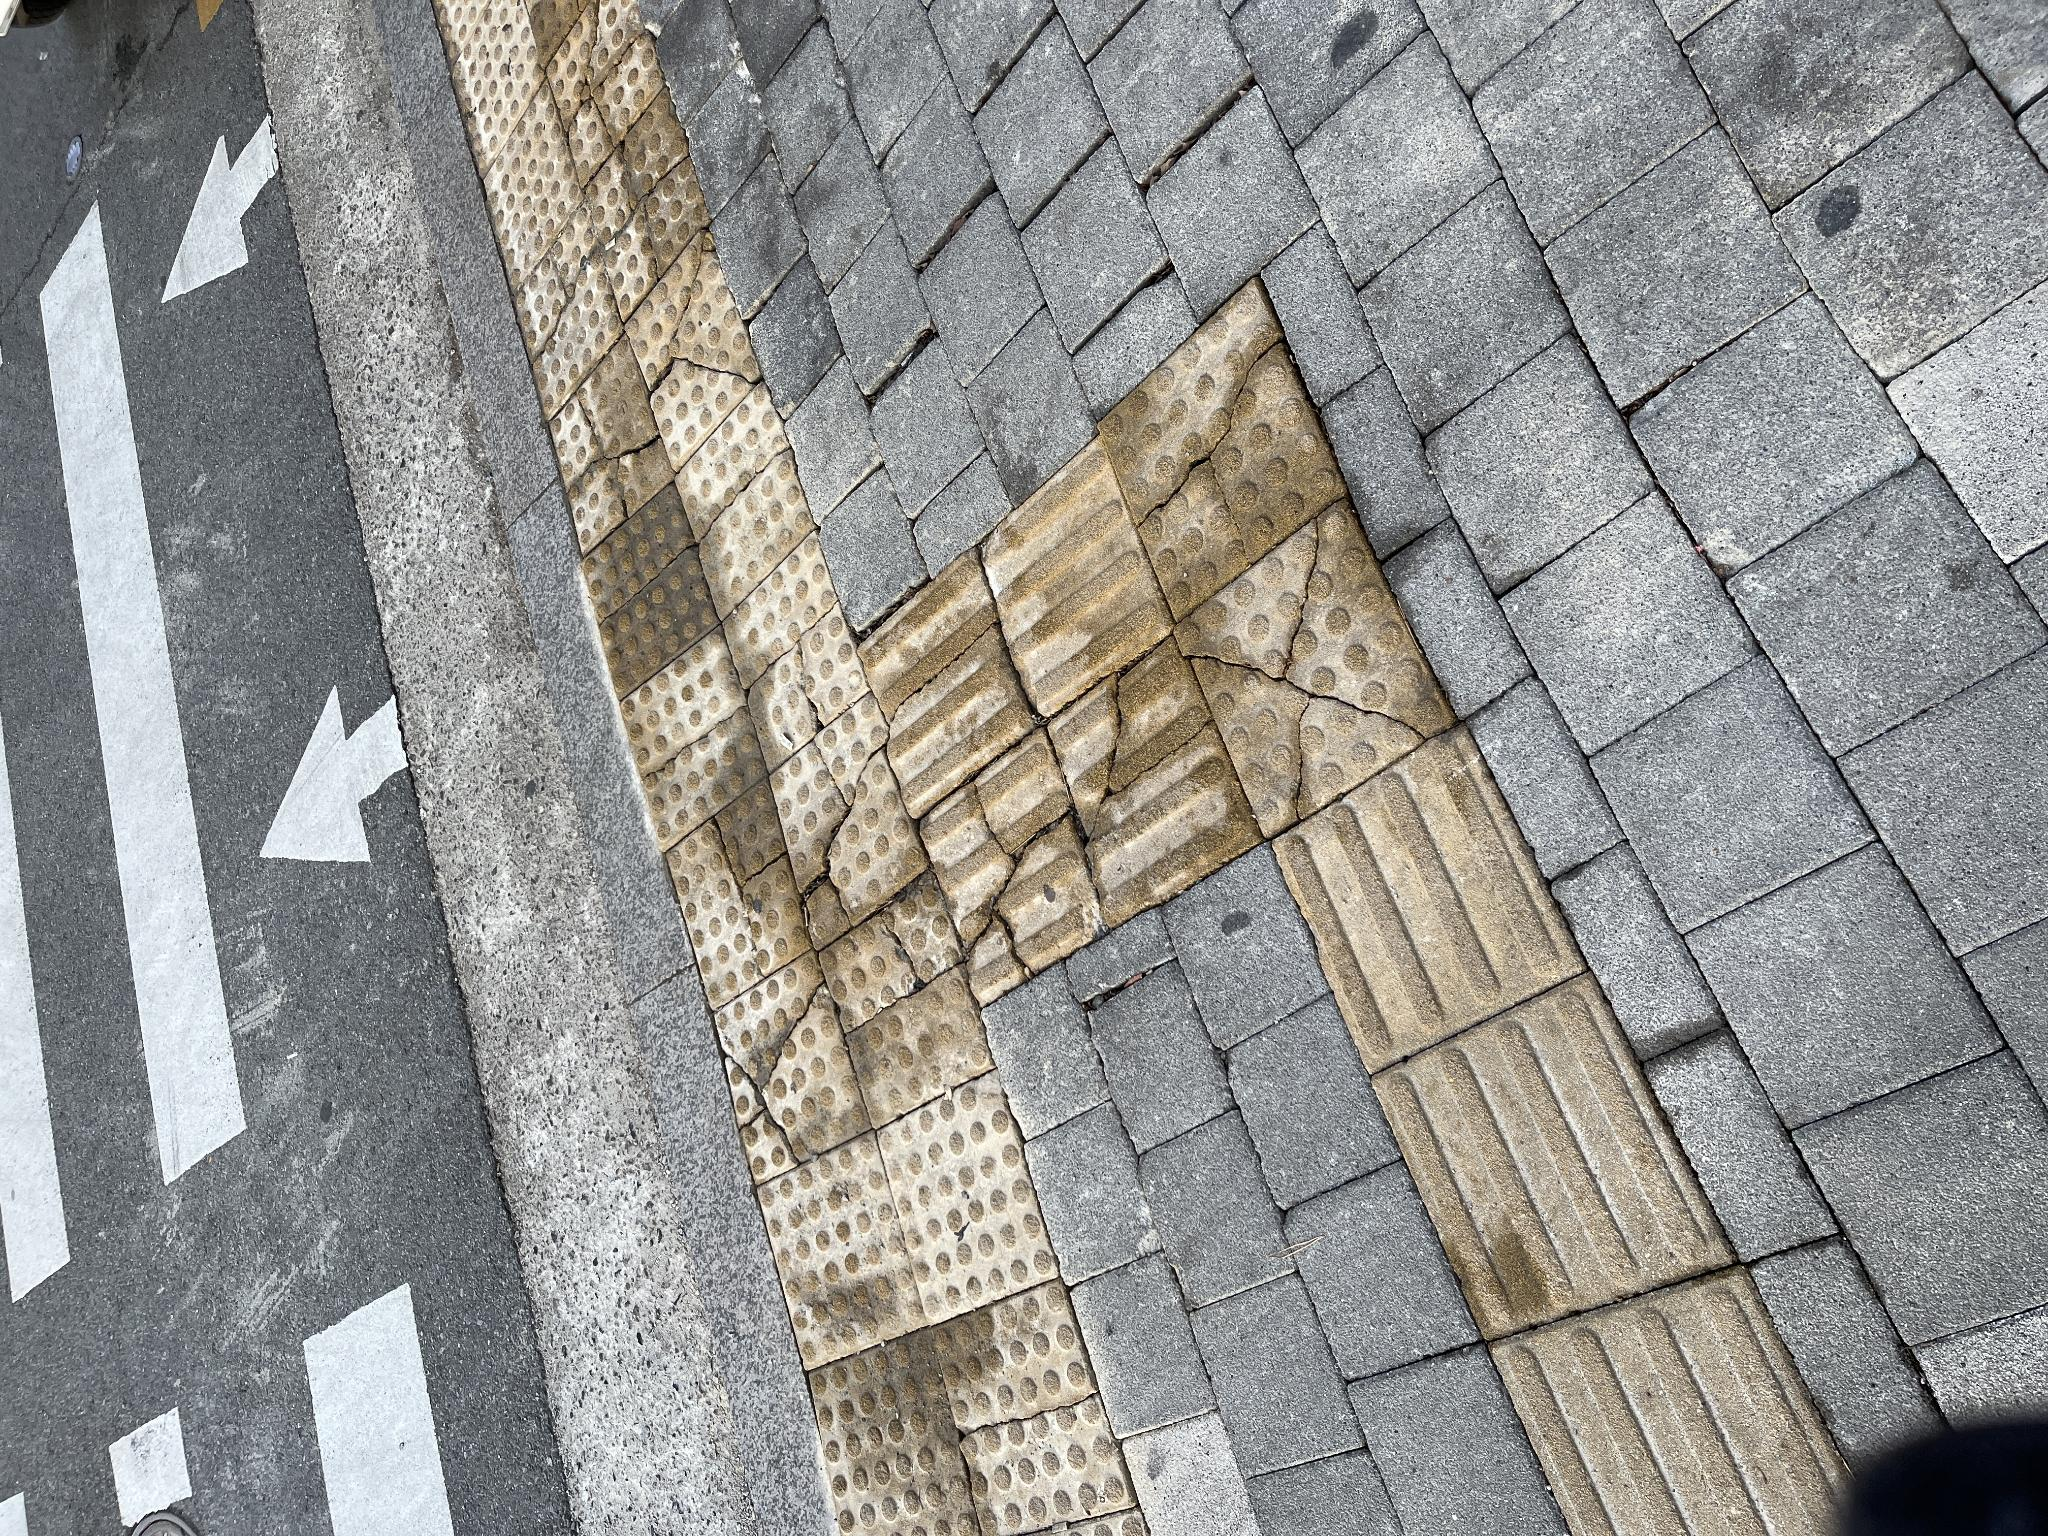Stop block broken: (703, 1175, 1034, 1450), (916, 1099, 1258, 1342), (406, 821, 664, 992), (589, 771, 839, 926), (764, 723, 1005, 868), (353, 715, 582, 866), (526, 666, 756, 810), (1066, 624, 1308, 760), (918, 674, 1153, 813), (685, 621, 908, 765), (839, 581, 1053, 716), (1216, 586, 1448, 705), (984, 550, 1201, 671), (1116, 513, 1332, 621)
Stop block normal: (213, 879, 464, 1055), (168, 758, 405, 925)
Straight block broken: (610, 1047, 898, 1258), (532, 916, 803, 1104), (721, 860, 985, 1033)
Straight block normal: (463, 1273, 810, 1536), (197, 1370, 537, 1536), (819, 979, 1097, 1170)
